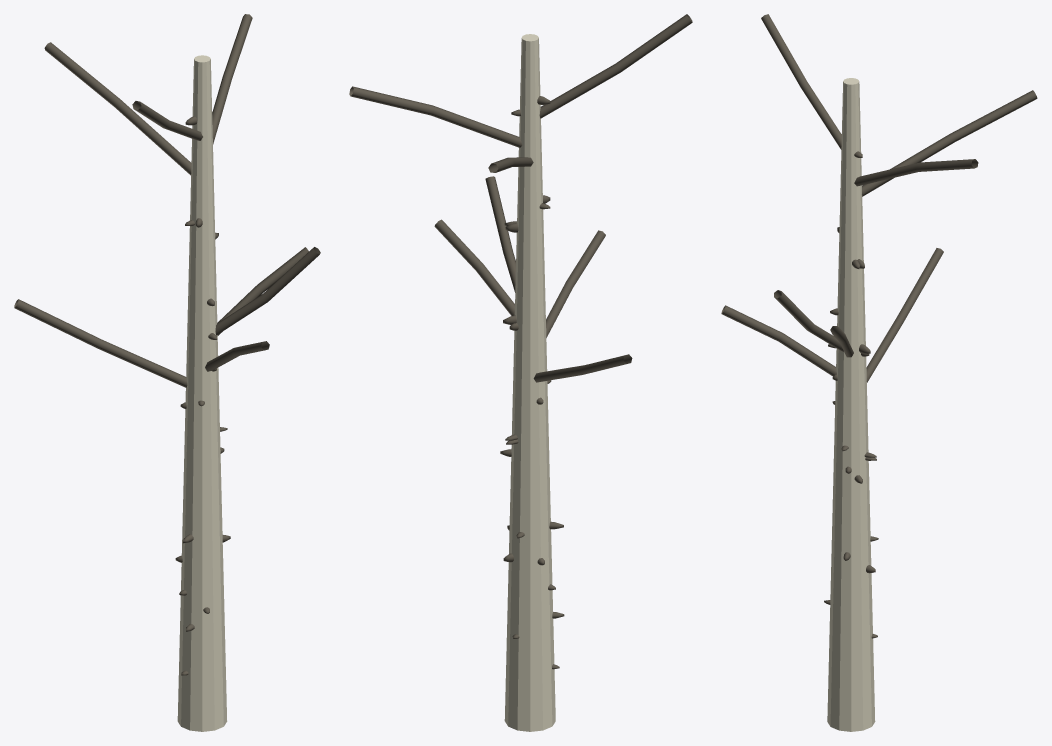
File: tree_birch_winter.glb
The picture shows the model from 3 angles, left to right: view 1: azimuth 30°, elevation 25°; view 2: azimuth 150°, elevation 25°; view 3: azimuth 270°, elevation 25°; orthographic projection. The views are drawn at different scales.
Visible parts, largest first — view 1: tree_birch_winter; view 2: tree_birch_winter; view 3: tree_birch_winter.
Boxes of the visible parts, x1,y1,x2,y2 form: tree_birch_winter: (14, 14, 320, 731); tree_birch_winter: (349, 14, 692, 731); tree_birch_winter: (721, 14, 1037, 731).
Bounding box in the file's own units: 2.62 × 6.66 × 2.91.
